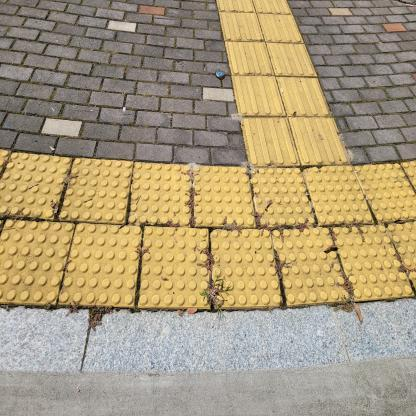podotacti: (0, 143, 415, 314), (208, 0, 351, 163)
